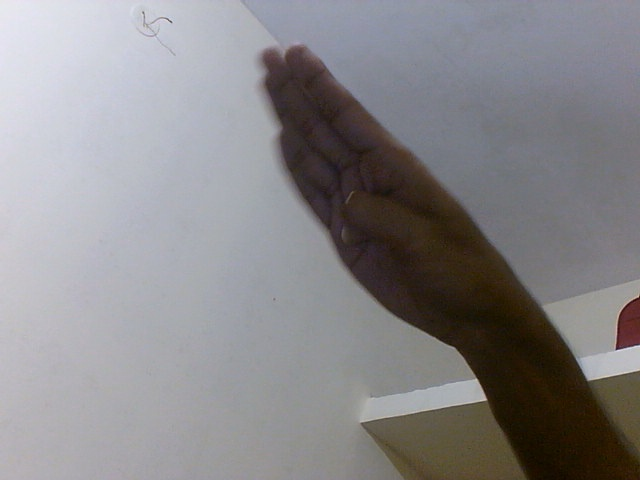hand: (254, 39, 534, 352)
